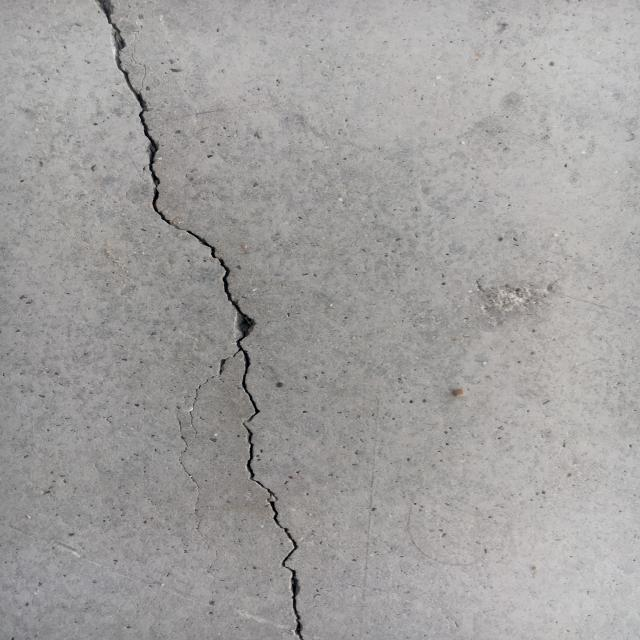SurfaceCrack: (65, 1, 332, 640)
